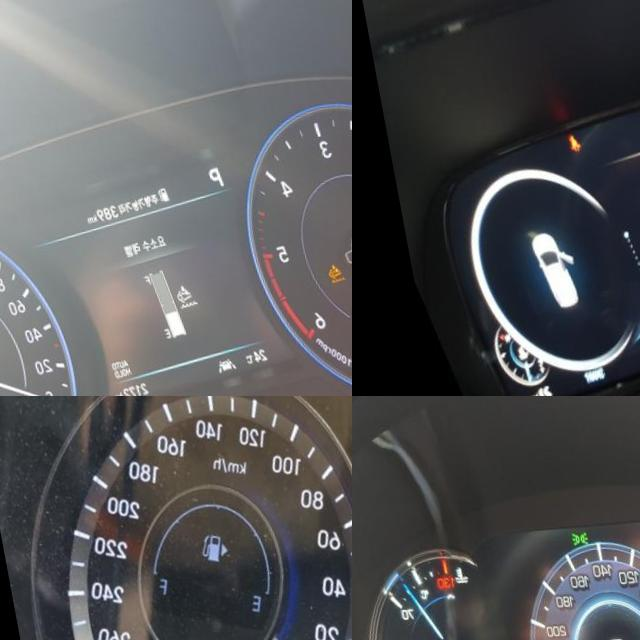LaneCenteringOff: (199, 362, 222, 379)
SideLamp: (564, 536, 583, 551)
